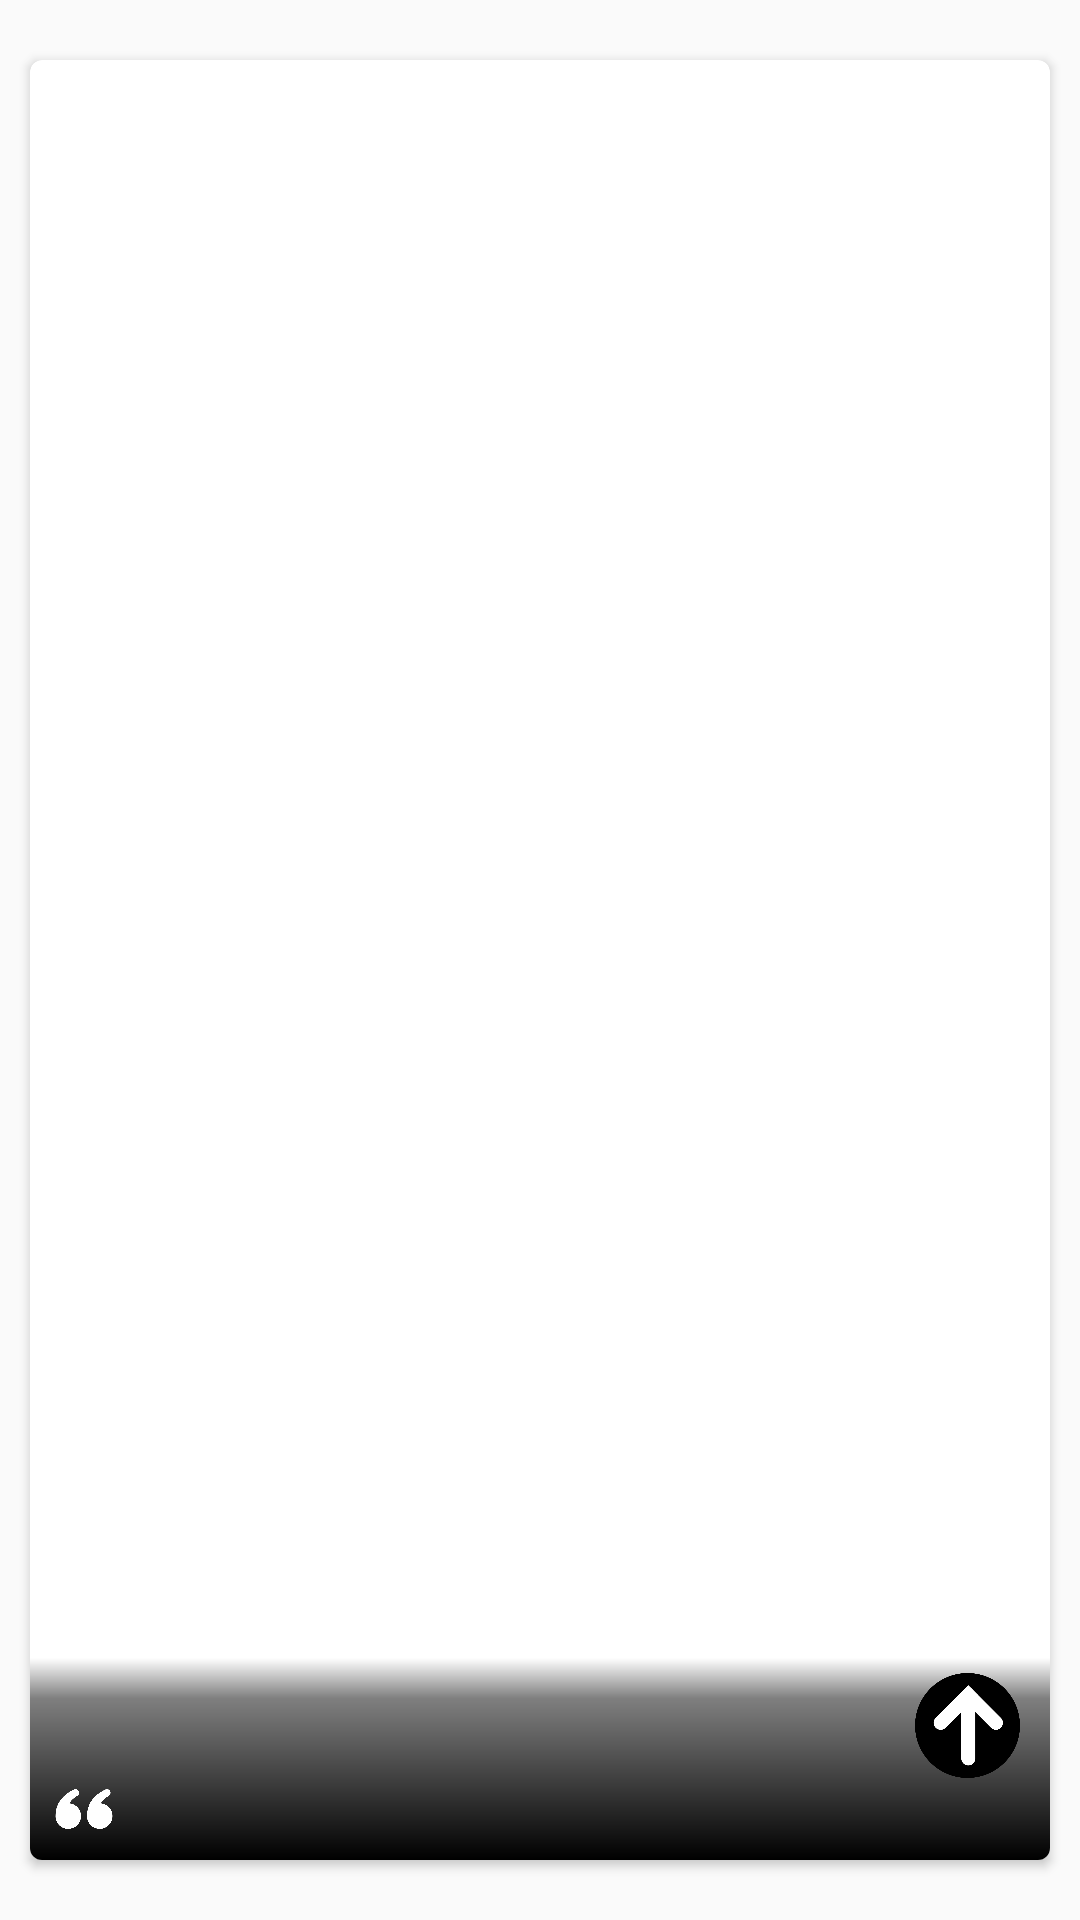

Point at icon controls on the screen. Image size 1080 x 1920, points as point (x, y).
quotes: point (84, 1809)
